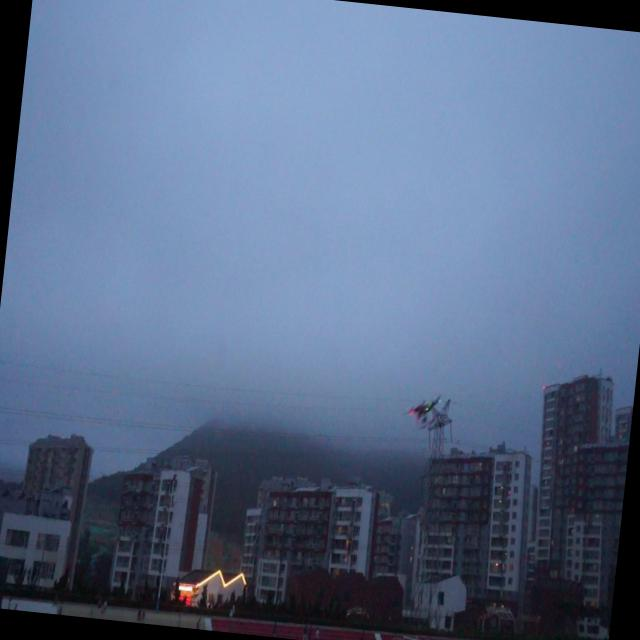drone: (401, 384, 447, 436)
